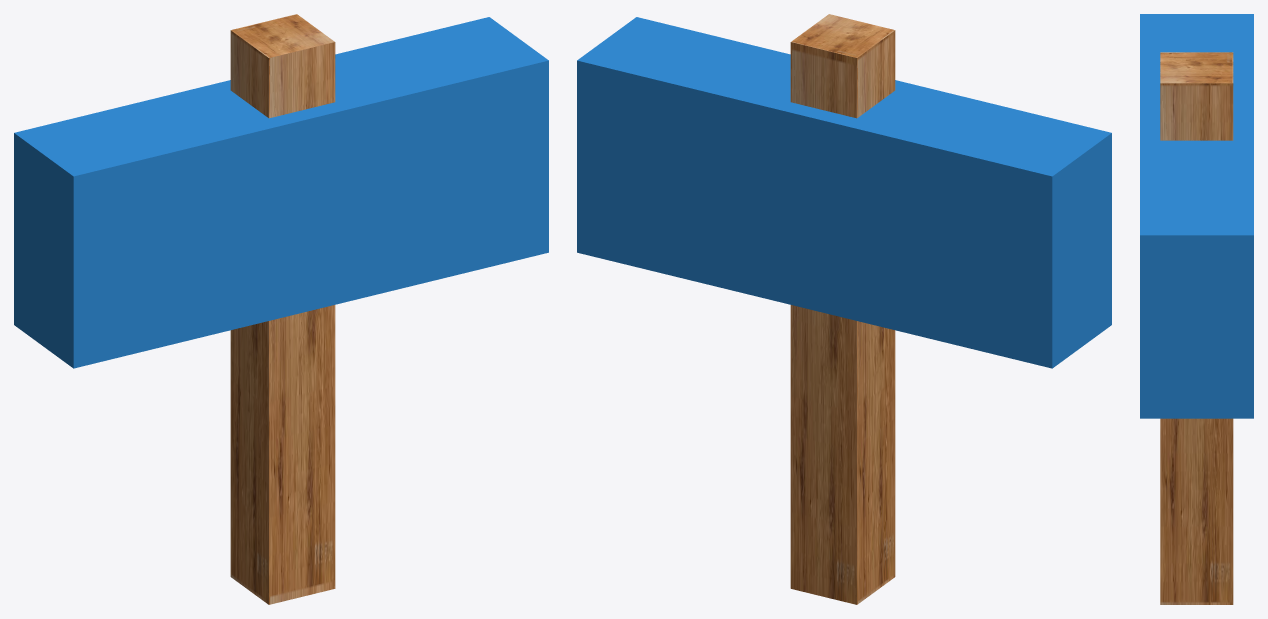
File: blueTeamMark.fbx
3 renders of one model, left to right at view 1: azimuth 30°, elevation 25°; view 2: azimuth 150°, elevation 25°; view 3: azimuth 270°, elevation 25°, orthographic. The views are drawn at different scales.
Parts seen in each view (by area): view 1: 立方體, Cube; view 2: 立方體, Cube; view 3: 立方體, Cube.
Boxes of the visible parts, <box> form: 立方體: <box>14,17,548,368</box>; Cube: <box>230,14,335,604</box>; 立方體: <box>577,17,1111,368</box>; Cube: <box>790,14,895,604</box>; 立方體: <box>1140,14,1253,418</box>; Cube: <box>1160,52,1233,604</box>.
Bounding box in the file's own units: 616 × 678 × 134.
Materials: 2 (1 with a texture image).
